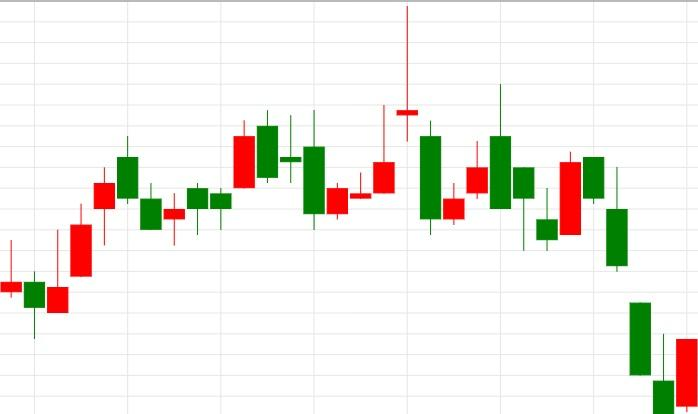evening_star_fall: (326, 6, 441, 235)
inverse_hammer_rise: (584, 156, 674, 414)
